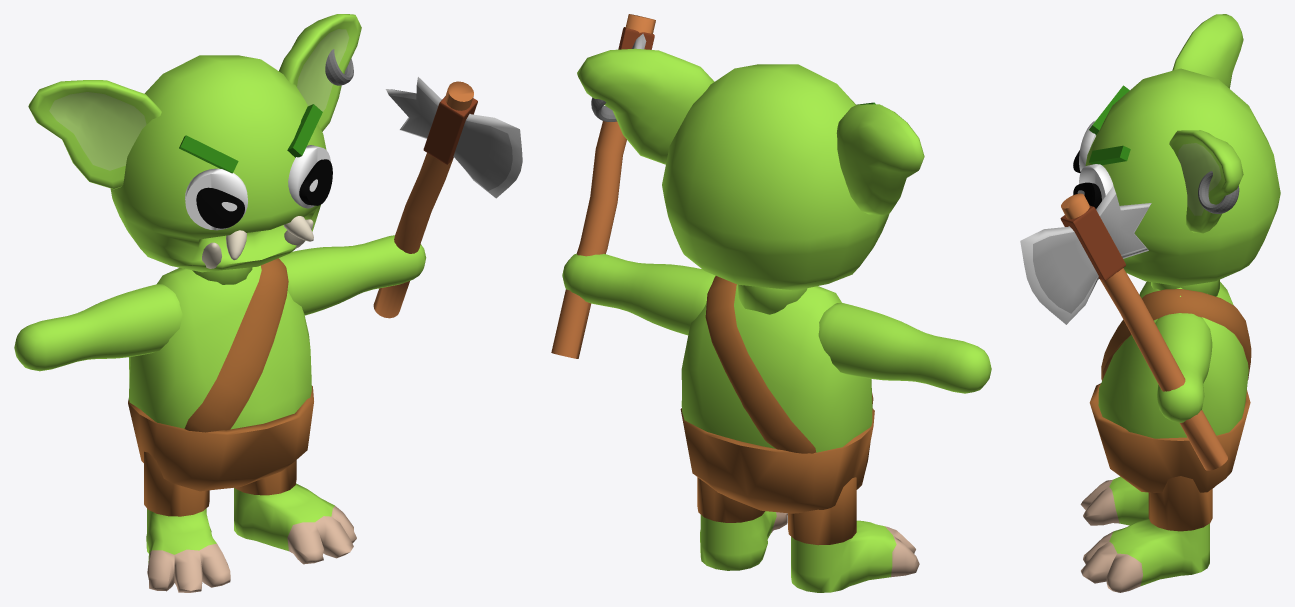
File: goblin.fbx
3 views of the same model, side by side, from view 1: azimuth 30°, elevation 25°; view 2: azimuth 150°, elevation 25°; view 3: azimuth 270°, elevation 25° (orthographic). The views are drawn at different scales.
Parts seen in each view (by area): view 1: Cube.001; view 2: Cube.001; view 3: Cube.001.
Boxes of the visible parts, x1,y1,x2,y2 form: Cube.001: (14,14,522,592); Cube.001: (551,14,991,592); Cube.001: (1020,14,1280,592).
Bounding box in the file's own units: 2306 × 2484 × 1260.
